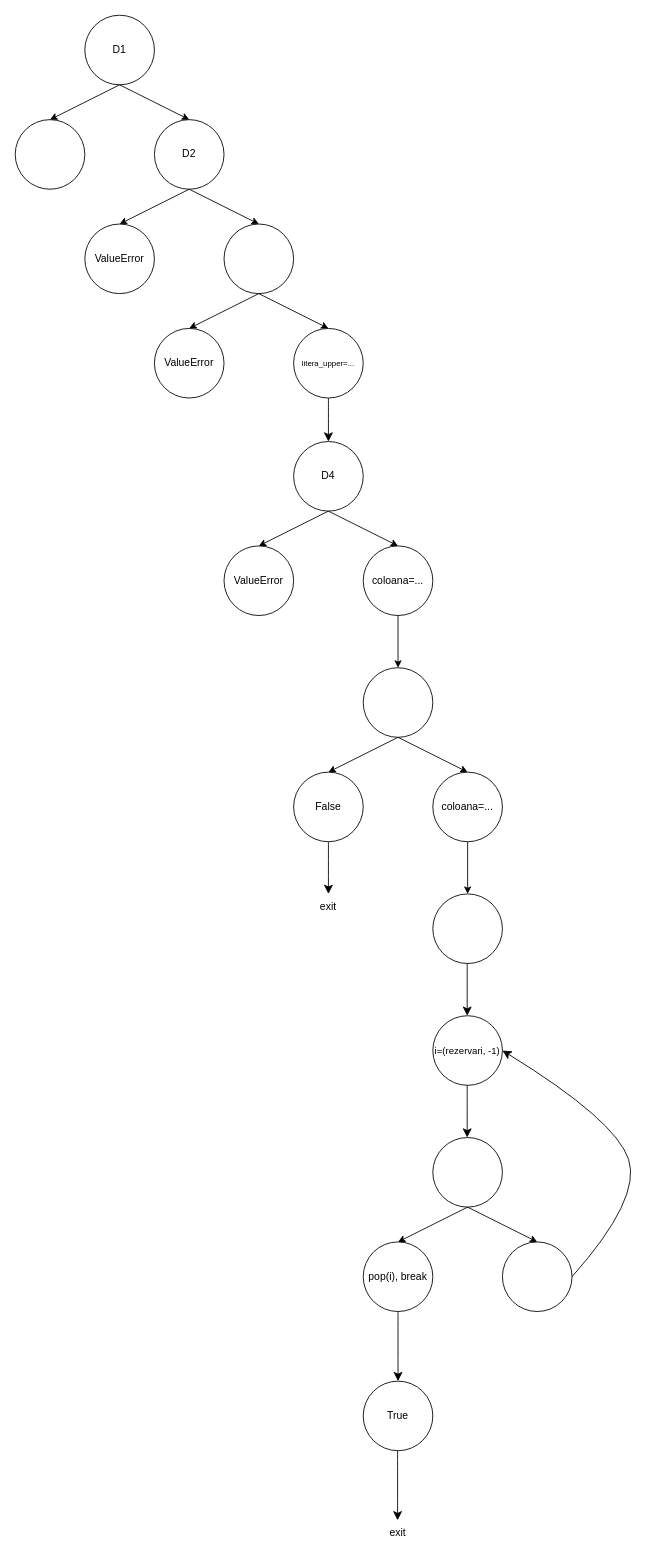
The diagram is 646 pixels wide and 1562 high, and some of its shapes have lost their labels. The centre of each missing label's shape, as x and y in pixels:
"D3" belongs at point (258, 258).
"D5" belongs at point (397, 702).
"D6" belongs at point (467, 1172).
"elibereaza loc" belongs at point (467, 928).
"i = i - 1" belongs at point (537, 1276).
"TypeError" belongs at point (49, 154).
